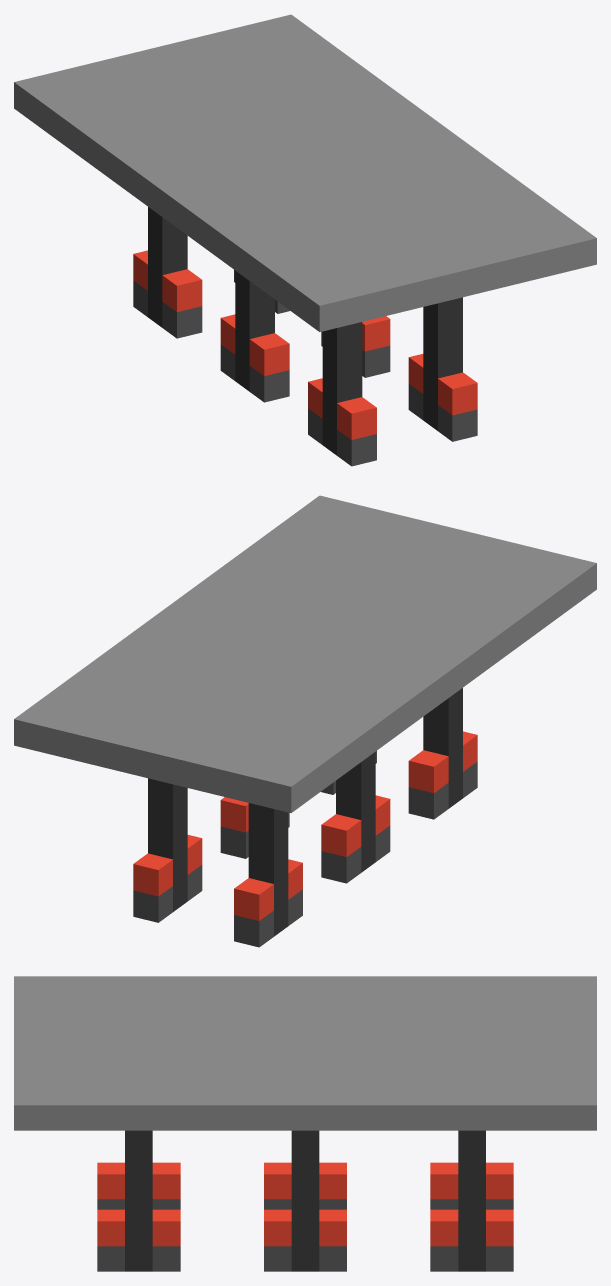
The model's file is newGasStation.obj.
The picture shows the model from 3 angles, top to bottom: view 1: azimuth 30°, elevation 25°; view 2: azimuth 150°, elevation 25°; view 3: azimuth 270°, elevation 25°; orthographic projection. The views are drawn at different scales.
Bounding box in the file's own units: 1.1 × 0.8 × 2.1.
1 material, 1 textured.
